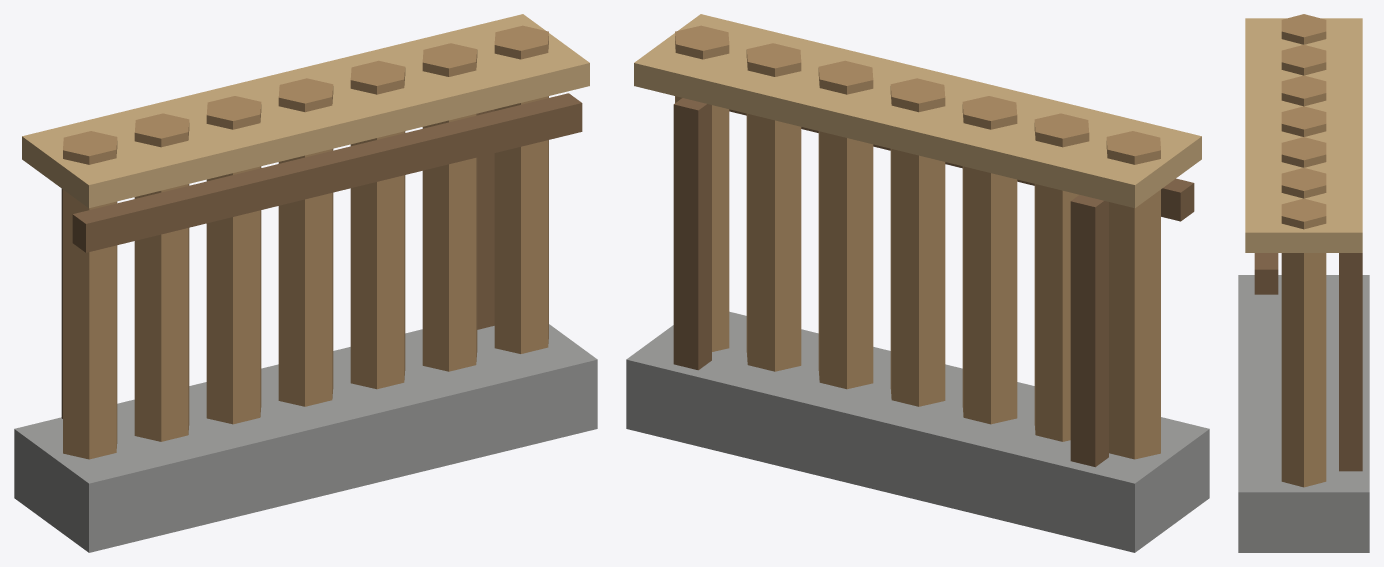
The model's file is Wall.fbx.
3 renders of one model, left to right at view 1: azimuth 30°, elevation 25°; view 2: azimuth 150°, elevation 25°; view 3: azimuth 270°, elevation 25°, orthographic. The views are drawn at different scales.
Parts seen in each view (by area): view 1: Wall_Footing, Wall_Walk, Wall_Rail, Wall_Log, Wall_Log.004, Wall_Log.005, Wall_Log.001, Wall_Log.002, Wall_Log.003, Wall_Log.006, Wall_Brace.001; view 2: Wall_Footing, Wall_Walk, Wall_Log.004, Wall_Log.005, Wall_Log.002, Wall_Log.003, Wall_Log, Wall_Log.001, Wall_Brace.001, Wall_Brace, Wall_Log.006, Wall_Rail; view 3: Wall_Footing, Wall_Walk, Wall_Log.006, Wall_Brace.001, Wall_Log, Wall_Log.002, Wall_Log.004, Wall_Log.005, Wall_Log.001, Wall_Log.003, Wall_Rail.
Boxes of the visible parts, x1,y1,x2,y2 form: Wall_Footing: (14, 324, 597, 552); Wall_Walk: (22, 14, 589, 208); Wall_Rail: (72, 93, 582, 252); Wall_Log: (63, 131, 117, 459); Wall_Log.004: (350, 60, 405, 389); Wall_Log.005: (422, 43, 477, 371); Wall_Log.001: (134, 113, 189, 441); Wall_Log.002: (206, 96, 261, 424); Wall_Log.003: (278, 78, 333, 406); Wall_Log.006: (494, 25, 548, 353); Wall_Brace.001: (477, 109, 494, 329); Wall_Footing: (626, 311, 1209, 552); Wall_Walk: (634, 14, 1201, 208); Wall_Log.004: (818, 60, 873, 389); Wall_Log.005: (746, 43, 801, 371); Wall_Log.002: (962, 96, 1017, 424); Wall_Log.003: (890, 78, 945, 406); Wall_Log: (1106, 131, 1160, 459); Wall_Log.001: (1034, 113, 1089, 441); Wall_Brace.001: (673, 98, 711, 370); Wall_Brace: (1070, 195, 1108, 467); Wall_Log.006: (675, 25, 729, 351); Wall_Rail: (729, 109, 1194, 221); Wall_Footing: (1238, 275, 1369, 552); Wall_Walk: (1245, 18, 1362, 252); Wall_Log.006: (1281, 198, 1326, 487); Wall_Brace.001: (1339, 253, 1362, 471); Wall_Log: (1281, 14, 1326, 44); Wall_Log.002: (1281, 75, 1326, 106); Wall_Log.004: (1281, 137, 1326, 167); Wall_Log.005: (1281, 168, 1326, 198); Wall_Log.001: (1281, 45, 1326, 75); Wall_Log.003: (1281, 106, 1326, 136); Wall_Rail: (1254, 253, 1278, 294).
Bounding box in the file's own units: 200 × 140 × 51.
